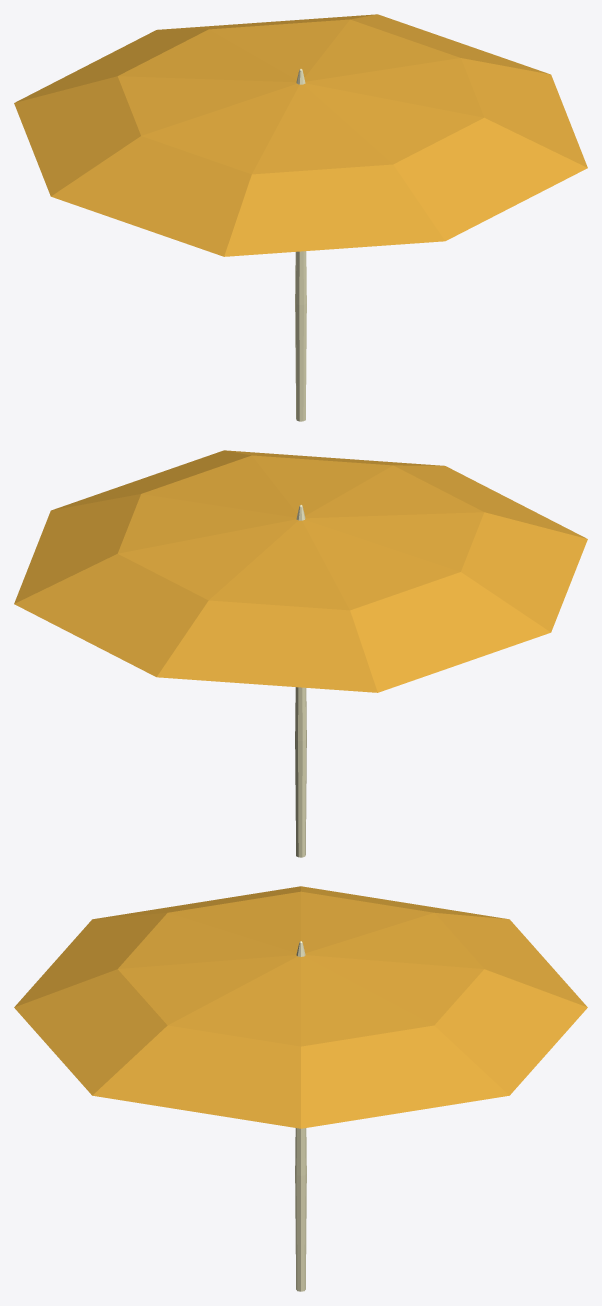
The model's file is umbrella.fbx.
3 renders of one model, top to bottom at view 1: azimuth 30°, elevation 25°; view 2: azimuth 150°, elevation 25°; view 3: azimuth 270°, elevation 25°, orthographic.
Parts seen in each view (by area): view 1: Cube.002; view 2: Cube.002; view 3: Cube.002.
Part boxes in pixels (left/top/right/bottom): Cube.002: left=14, top=14, right=587, bottom=421; Cube.002: left=14, top=450, right=587, bottom=857; Cube.002: left=14, top=886, right=587, bottom=1291.
Size of the model in its own units: 406 by 272 by 406.
